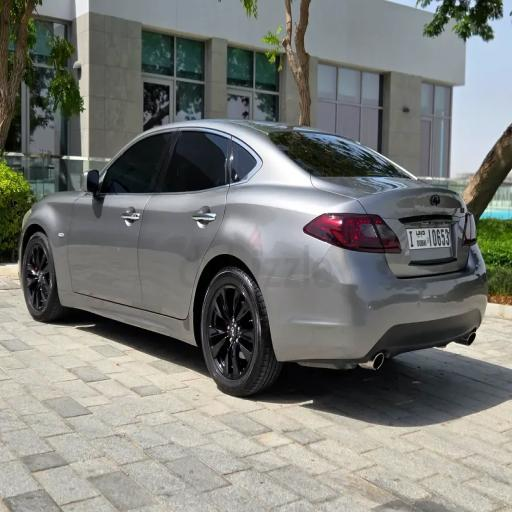license-plates: (405, 227, 452, 251)
